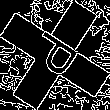P_SE: (24, 26, 86, 84)
